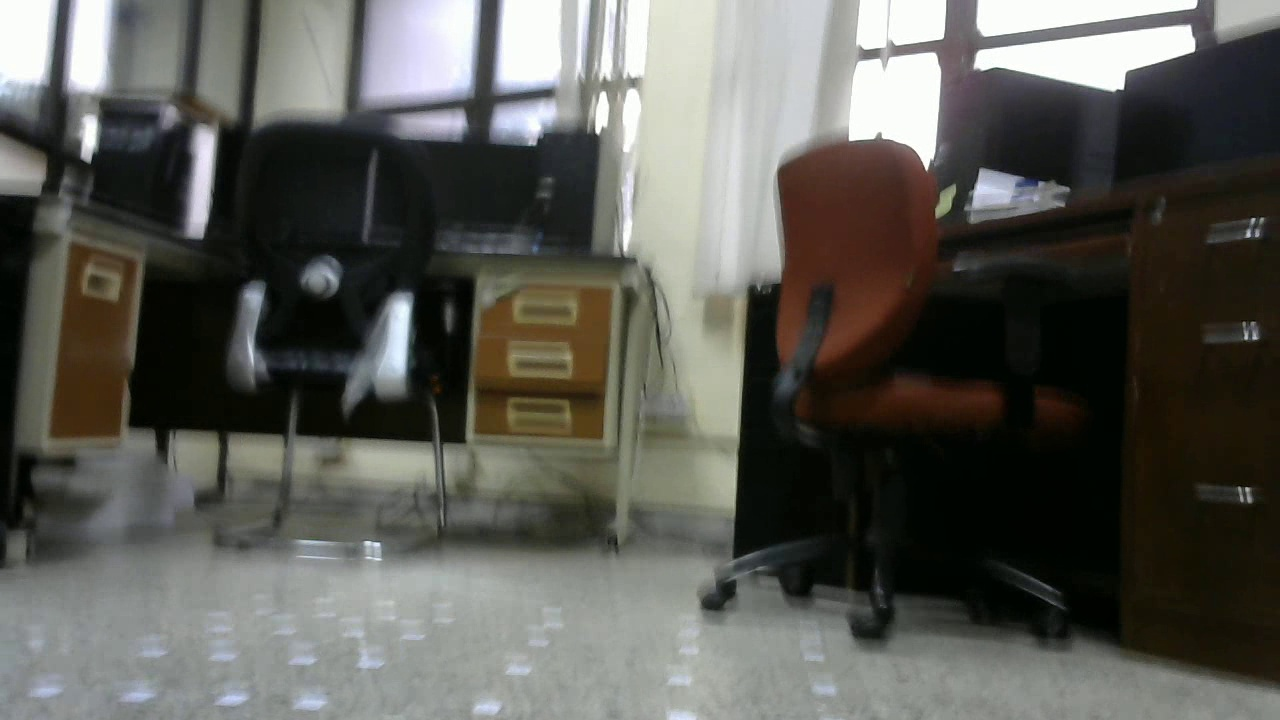chair: (694, 134, 1072, 648), (207, 107, 446, 555)
